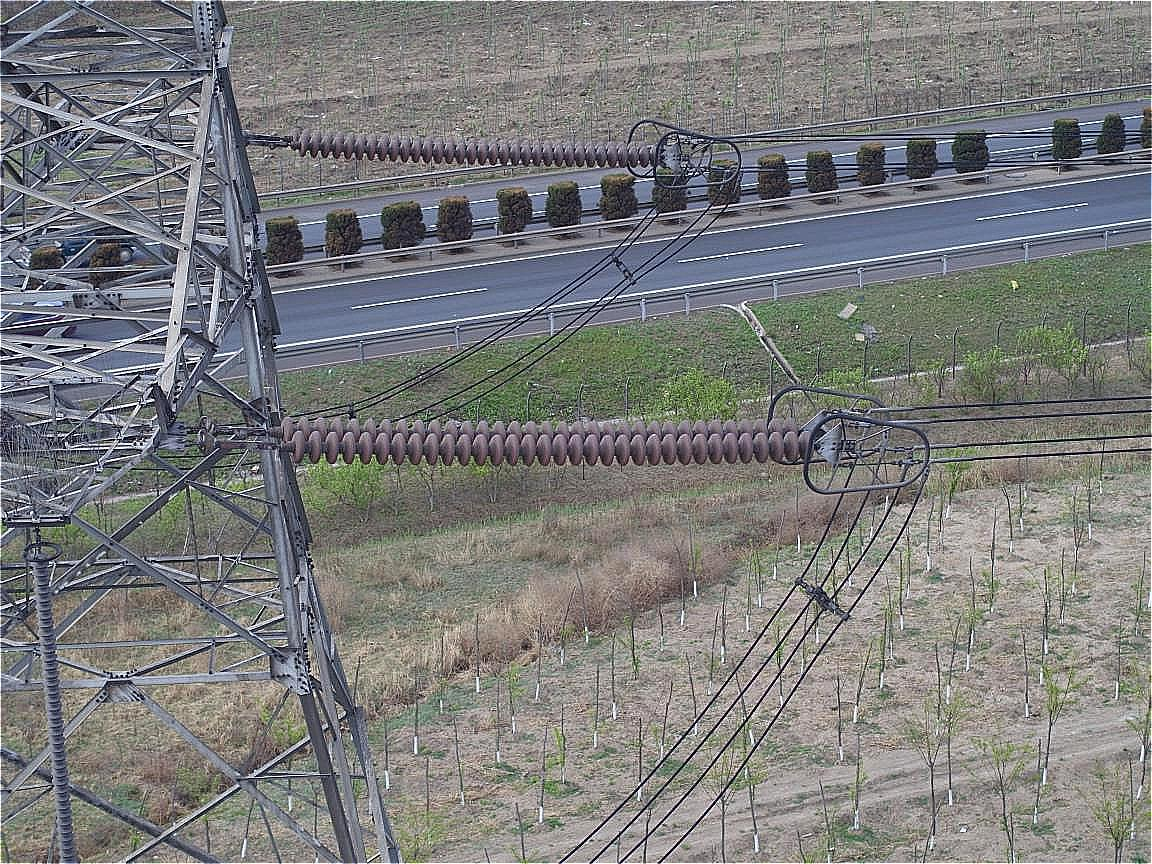insultor1: (280, 414, 812, 465), (293, 130, 665, 168)
